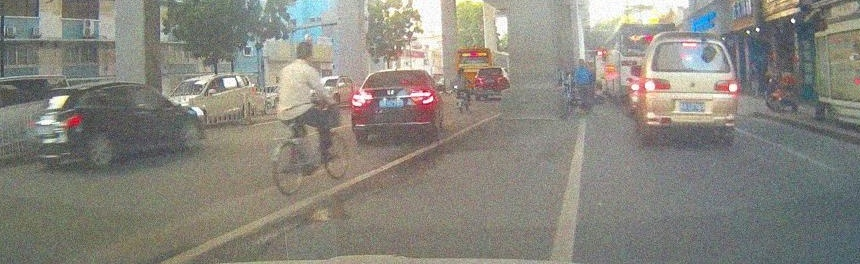L_light: (644, 78, 671, 90), (352, 94, 373, 107)
R_light: (410, 93, 434, 104), (714, 80, 738, 91)
T_light: (682, 43, 697, 47), (390, 71, 403, 74)
day-brake: (643, 31, 738, 143)
day-left: (350, 69, 435, 141)
